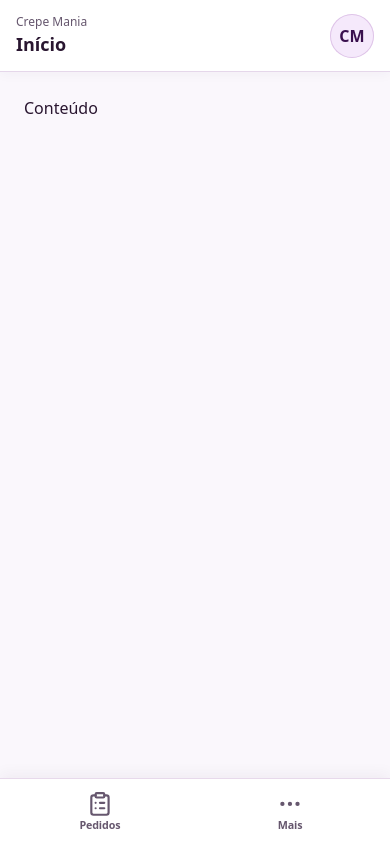
AdminShell mobile › abre Mais para entregador sem redirecionar ao perfil
Click the button "Mais": (290,811) [195,785,385,838]
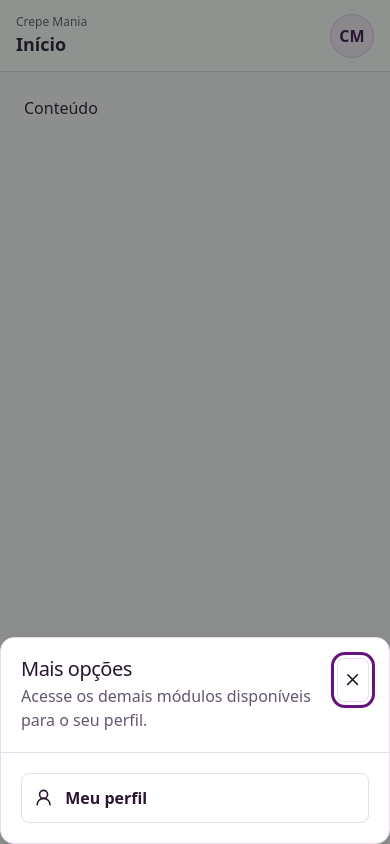
expect the heading "Mais opções" is shown: met, box [21,655,132,682]
expect the link "Meu perfil" is shown: met, box [21,773,369,823]
